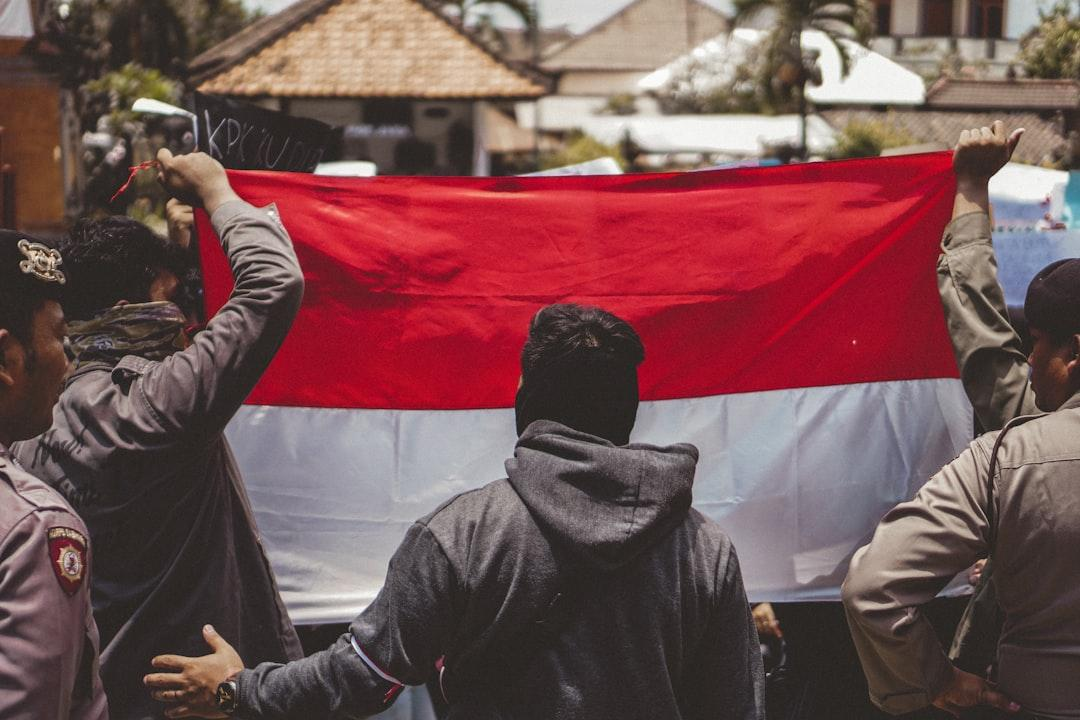Indonesia: (190, 117, 1003, 631)
